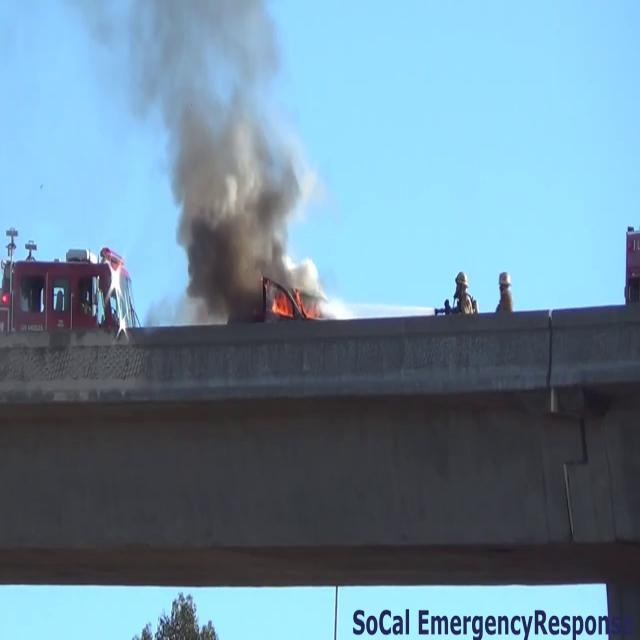Smoke: (107, 0, 318, 300)
